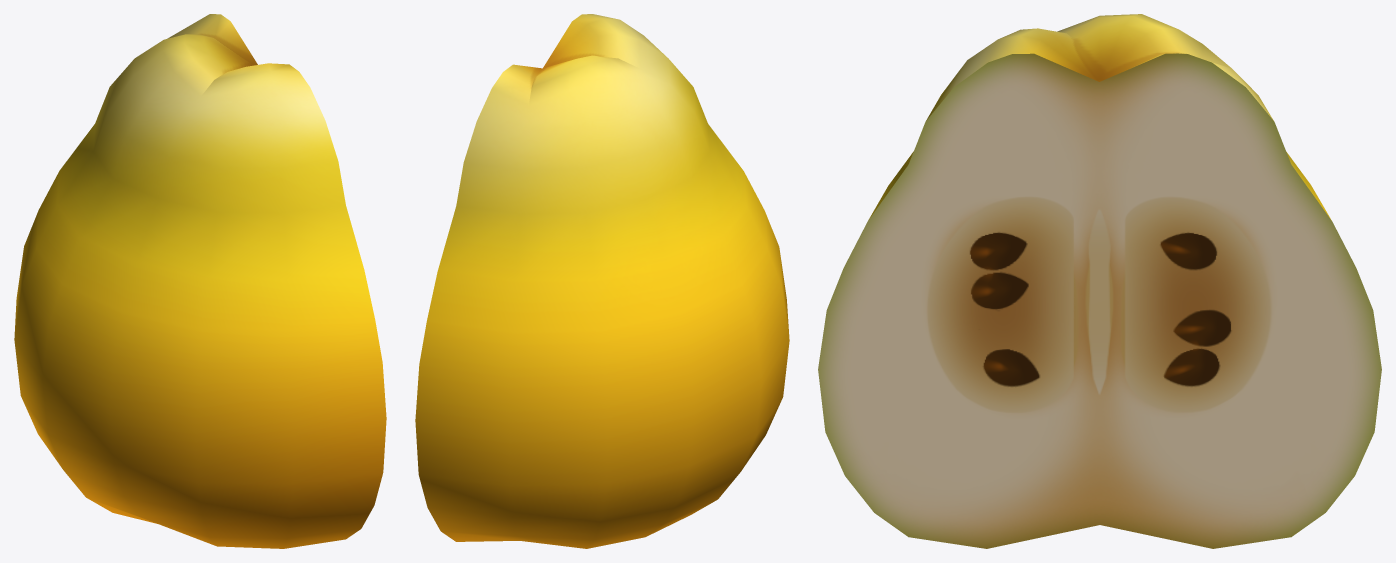
Rendered from Quince_Ripe_Half_01.fbx.
3 views of the same model, side by side, from view 1: azimuth 30°, elevation 25°; view 2: azimuth 150°, elevation 25°; view 3: azimuth 270°, elevation 25° (orthographic). The views are drawn at different scales.
Visible parts, largest first — view 1: Quince_Ripe_Half_01; view 2: Quince_Ripe_Half_01; view 3: Quince_Ripe_Half_01.
Boxes of the visible parts, <box> form: Quince_Ripe_Half_01: <box>14,14,386,548</box>; Quince_Ripe_Half_01: <box>415,14,789,548</box>; Quince_Ripe_Half_01: <box>818,14,1381,548</box>.
Size of the model in its own units: 18.29 by 36.16 by 36.74.
